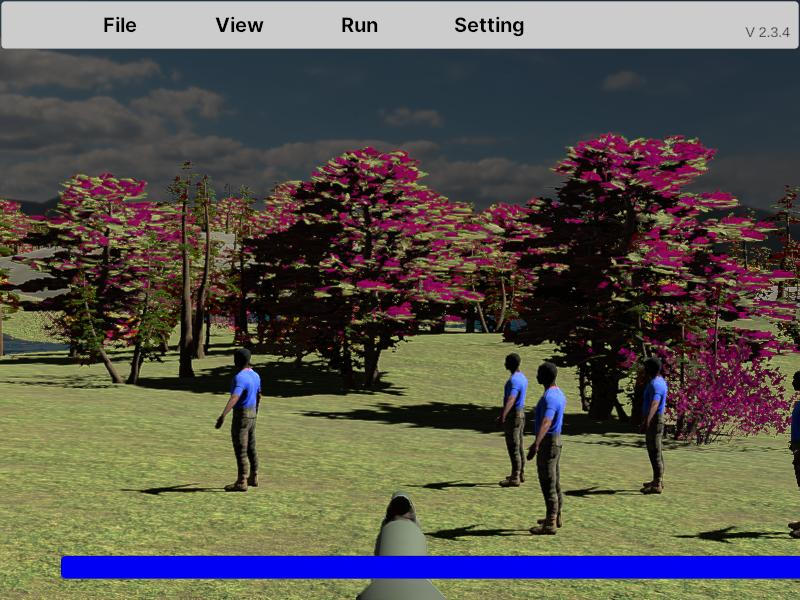Human: (215, 346, 261, 492), (529, 362, 566, 534), (497, 352, 527, 488), (640, 355, 667, 494), (788, 367, 800, 539)
